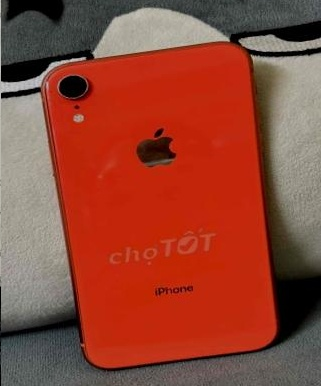scratch: (257, 301, 293, 346)
